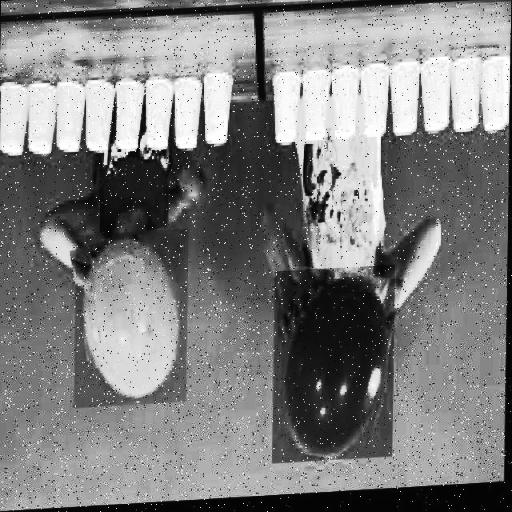balloon: (287, 279, 387, 465), (80, 242, 177, 404)
